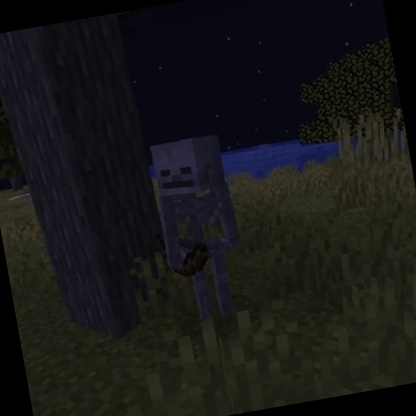skeleton: (135, 126, 259, 327)
